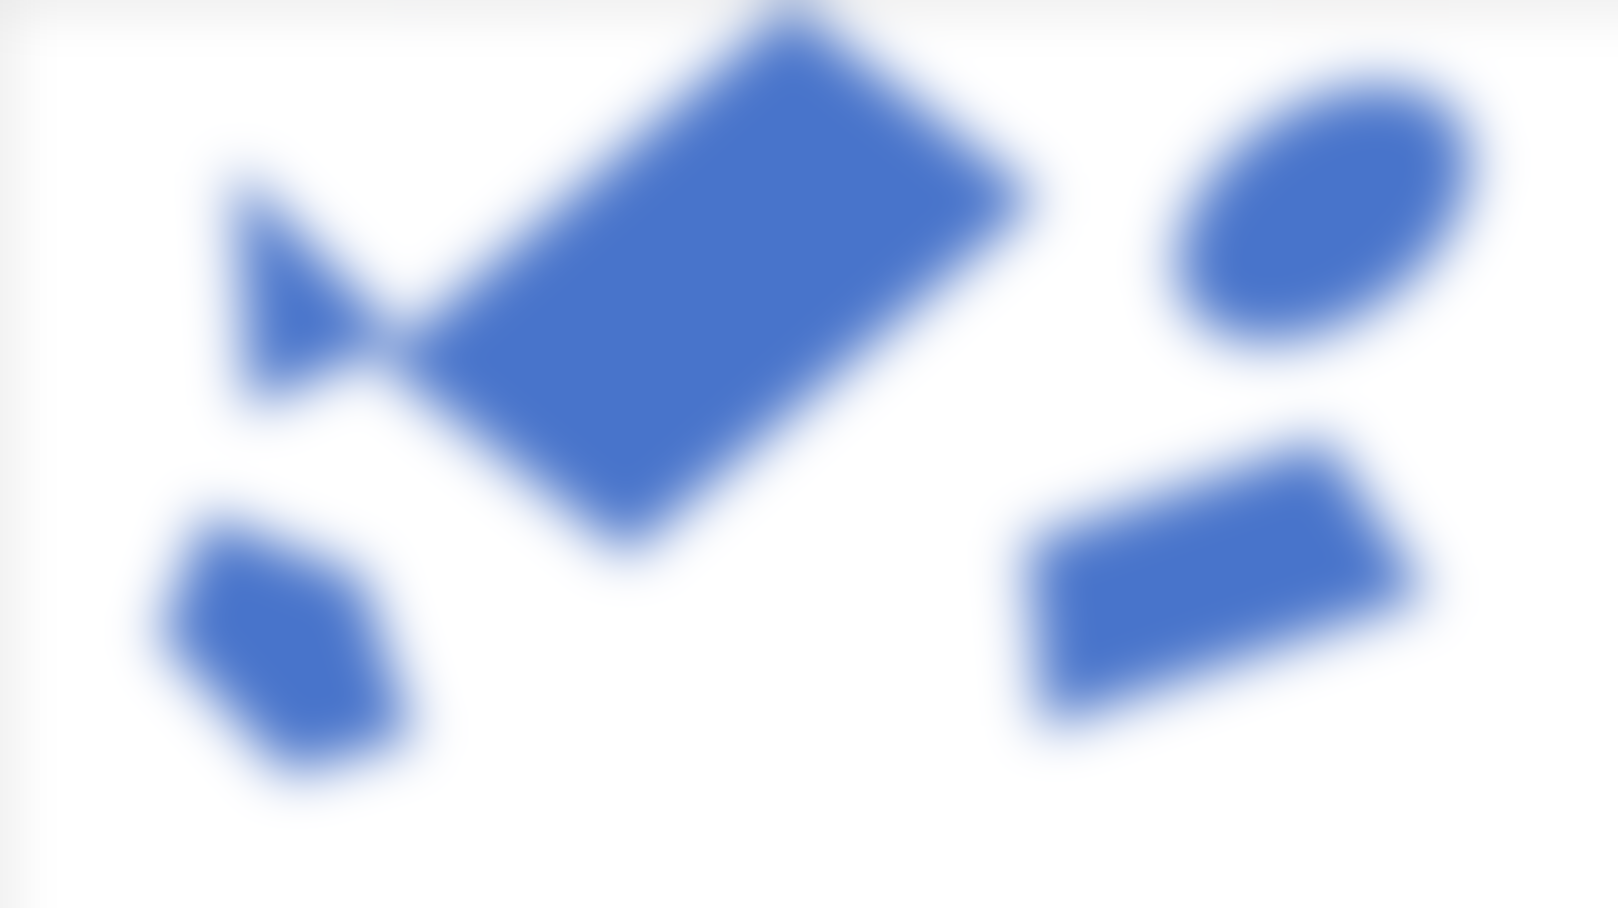circle: (1146, 44, 1518, 369)
parallelogram: (384, 19, 1035, 551)
pentagon: (146, 508, 445, 792)
trapezium: (999, 442, 1439, 747)
triangle: (192, 149, 401, 401)
